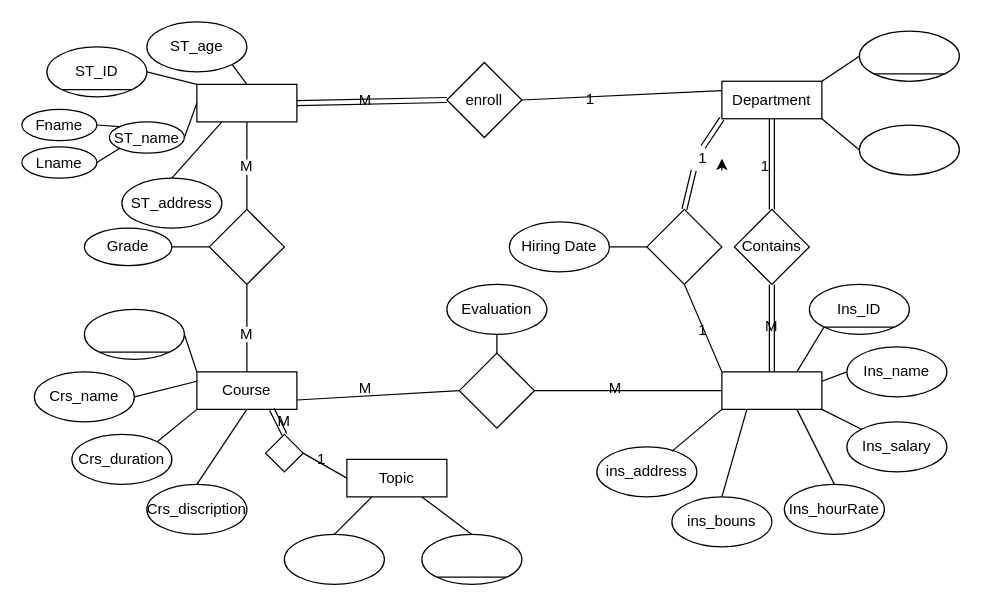
Image size: 981x606. Some labels were removed from this diagram. The centre of each missing label's shape, as x and y in pixels:
"Crs_ID" goes at point (133, 333).
"De_ID" goes at point (908, 55).
"DE_name" goes at point (908, 149).
"Have" goes at point (283, 452).
"Instructor" goes at point (771, 390).
"manage" goes at point (684, 246).
"Student" goes at point (246, 102).
"Take" goes at point (246, 246).
"Teach" goes at point (496, 390).
"Topic_ID" goes at point (471, 558).
"Topic_name" goes at point (333, 558).
